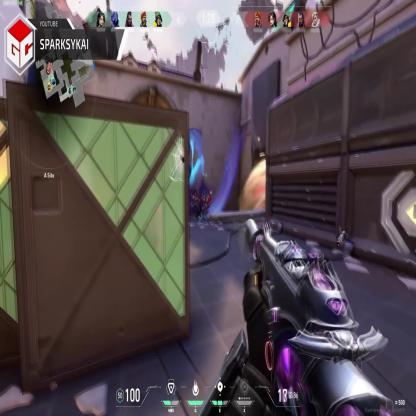enemy: (199, 189, 208, 217), (190, 190, 198, 219)
enemy_head: (191, 190, 196, 198), (204, 190, 207, 197)
